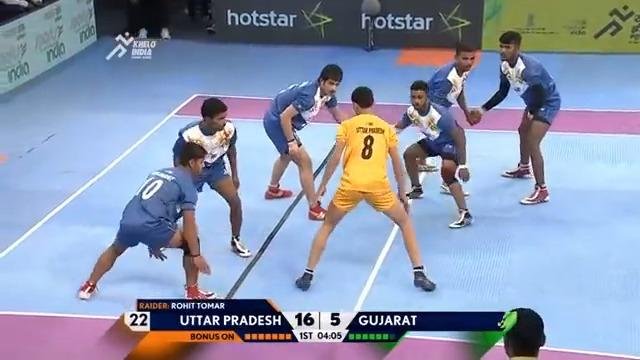Player: (77, 141, 217, 301), (470, 30, 561, 204), (262, 63, 345, 220), (171, 96, 251, 258), (392, 79, 474, 228)
Raider: (294, 85, 436, 292)
referee: (418, 41, 479, 196), (122, 0, 172, 40)
